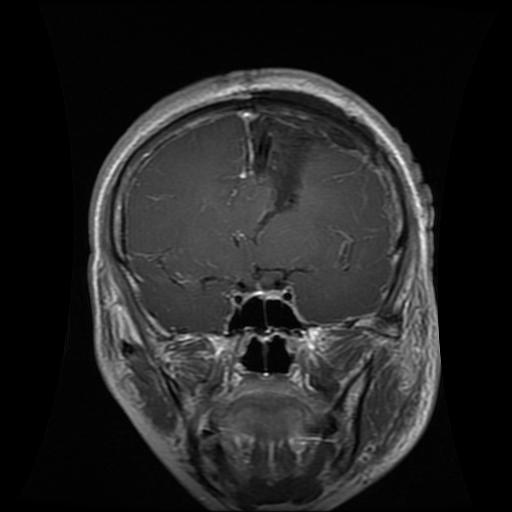Gliomia_tumour: (245, 113, 321, 245)
